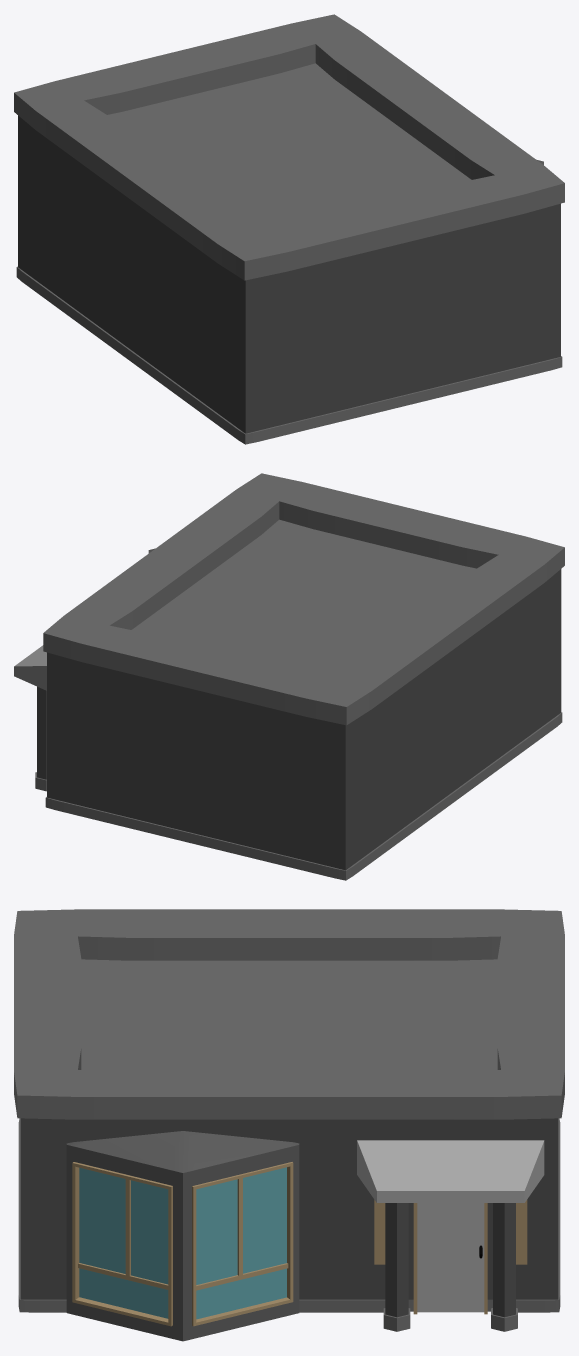
Rendered from Building_10.fbx.
3 renders of one model, top to bottom at view 1: azimuth 30°, elevation 25°; view 2: azimuth 150°, elevation 25°; view 3: azimuth 270°, elevation 25°, orthographic. The views are drawn at different scales.
Visible parts, largest first — view 1: pCube47; view 2: pCube47; view 3: pCube47.
Boxes of the visible parts, left/top/right/bottom form: pCube47: left=14, top=14, right=564, bottom=444; pCube47: left=14, top=473, right=564, bottom=880; pCube47: left=14, top=909, right=564, bottom=1341.
Size of the model in its own units: 9.43 by 4.47 by 10.25.
